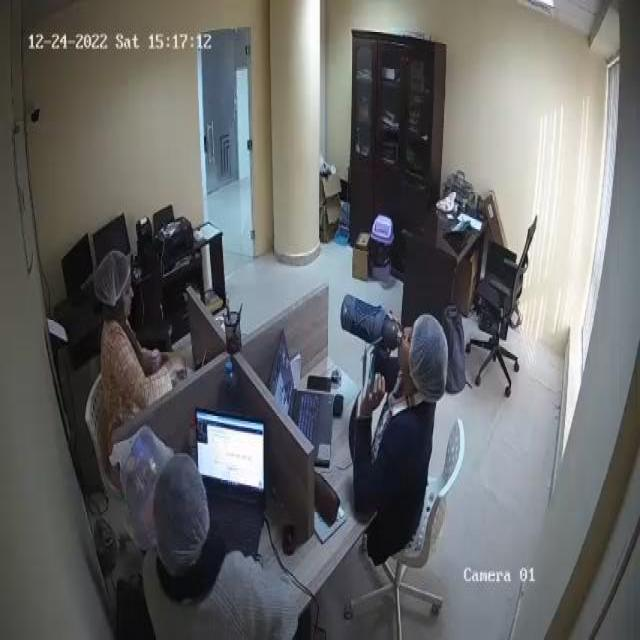hairnet: (154, 453, 210, 562), (416, 318, 453, 401), (96, 252, 126, 310)
